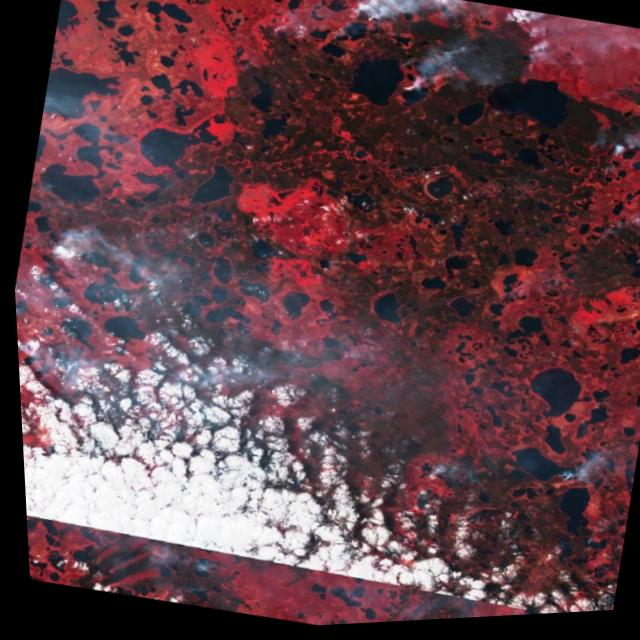fire: (140, 533, 222, 591), (523, 448, 591, 505), (18, 216, 82, 275), (474, 5, 541, 49), (586, 134, 640, 186), (331, 0, 399, 39), (12, 292, 45, 357), (609, 206, 640, 253)
